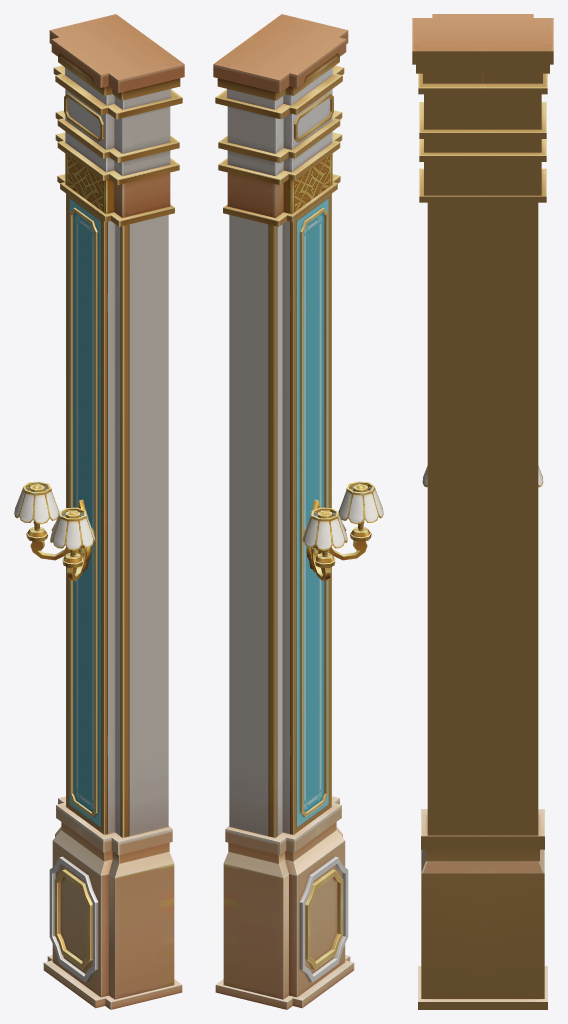
Rendered from my_trinityclassroom_01_pillar_03.glb.
3 renders of one model, left to right at view 1: azimuth 30°, elevation 25°; view 2: azimuth 150°, elevation 25°; view 3: azimuth 270°, elevation 25°, orthographic. The views are drawn at different scales.
Parts seen in each view (by area): view 1: my_trinityclassroom_01_pillar_03; view 2: my_trinityclassroom_01_pillar_03; view 3: my_trinityclassroom_01_pillar_03.
Part boxes in pixels (left/top/right/bottom): my_trinityclassroom_01_pillar_03: left=14, top=14, right=184, bottom=1009; my_trinityclassroom_01_pillar_03: left=213, top=14, right=383, bottom=1009; my_trinityclassroom_01_pillar_03: left=412, top=14, right=553, bottom=1009.
Bounding box in the file's own units: 0.00583 × 0.0447 × 0.00597.
Materials: 1 (1 with a texture image).
